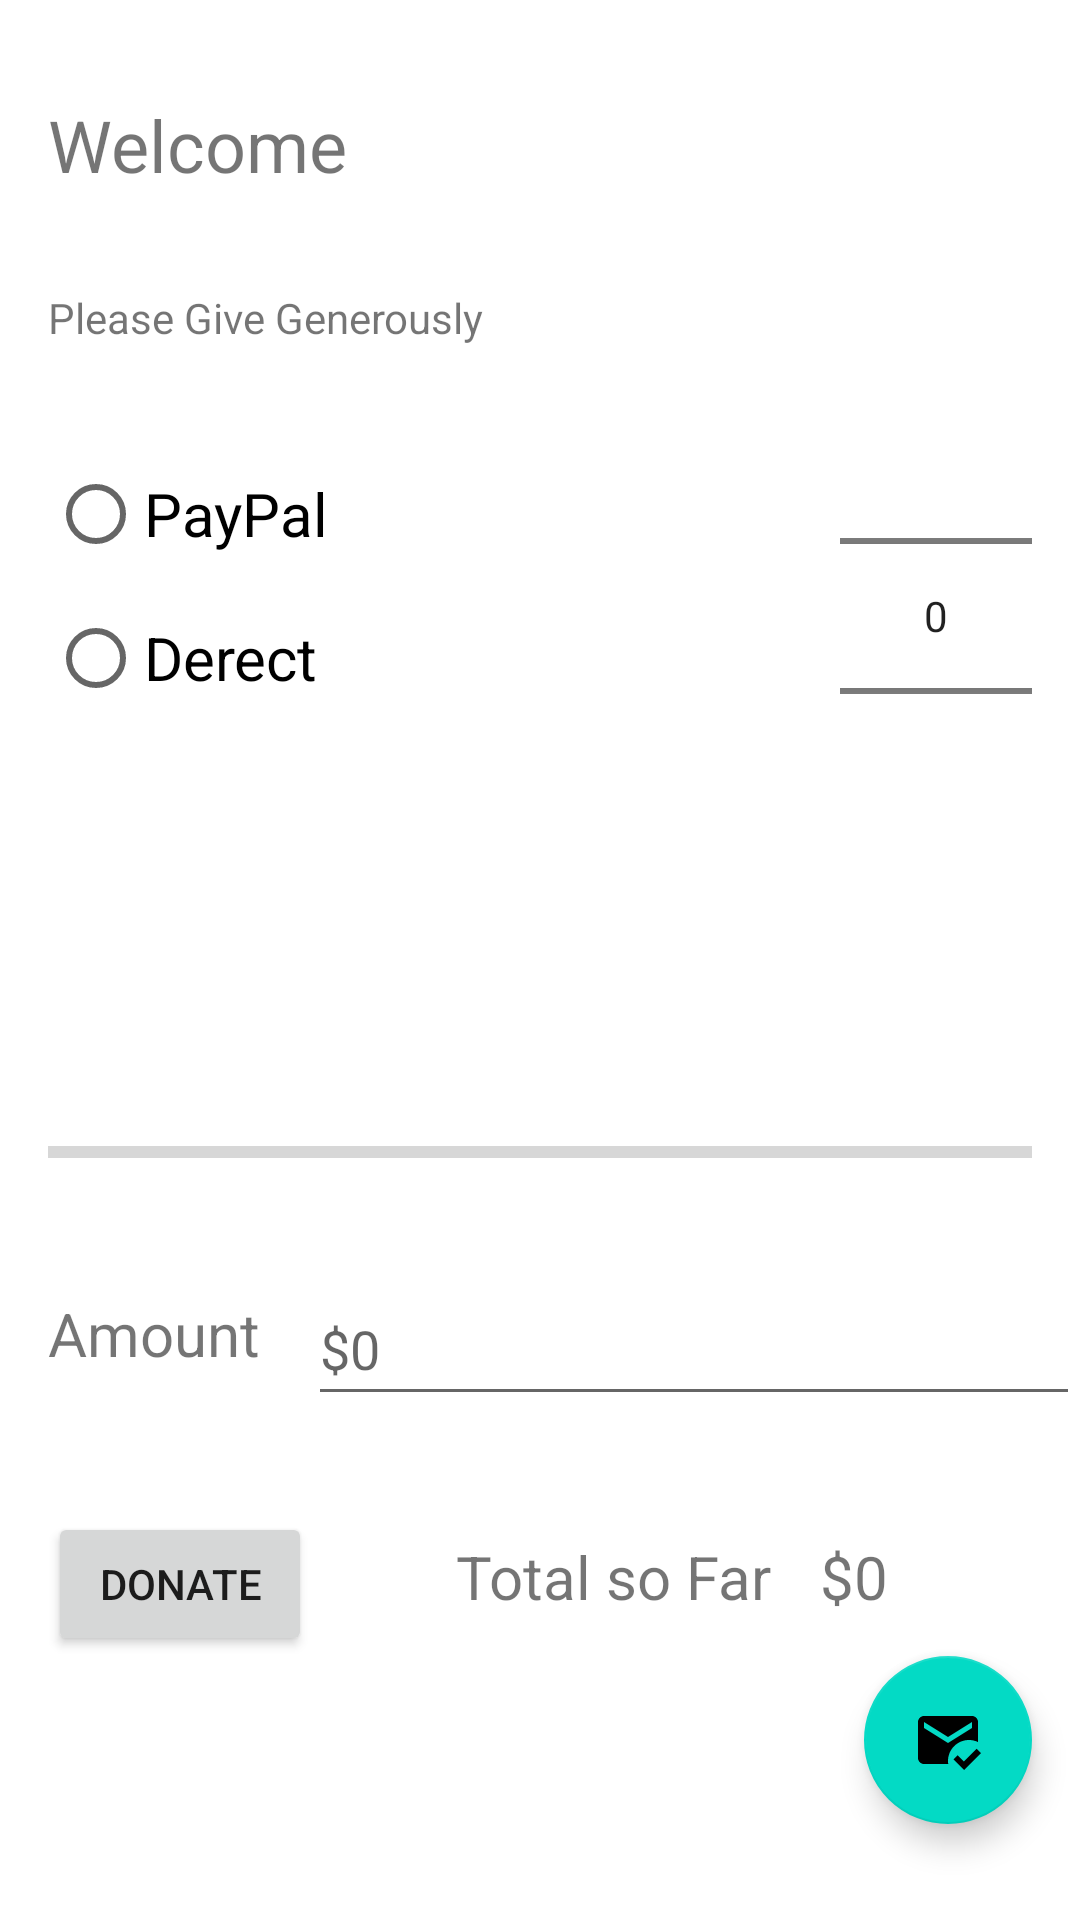

Screen size 1080w x 1920h. Icon name, then its center in pixels as (x,y):
Sent email: (948,1740)
